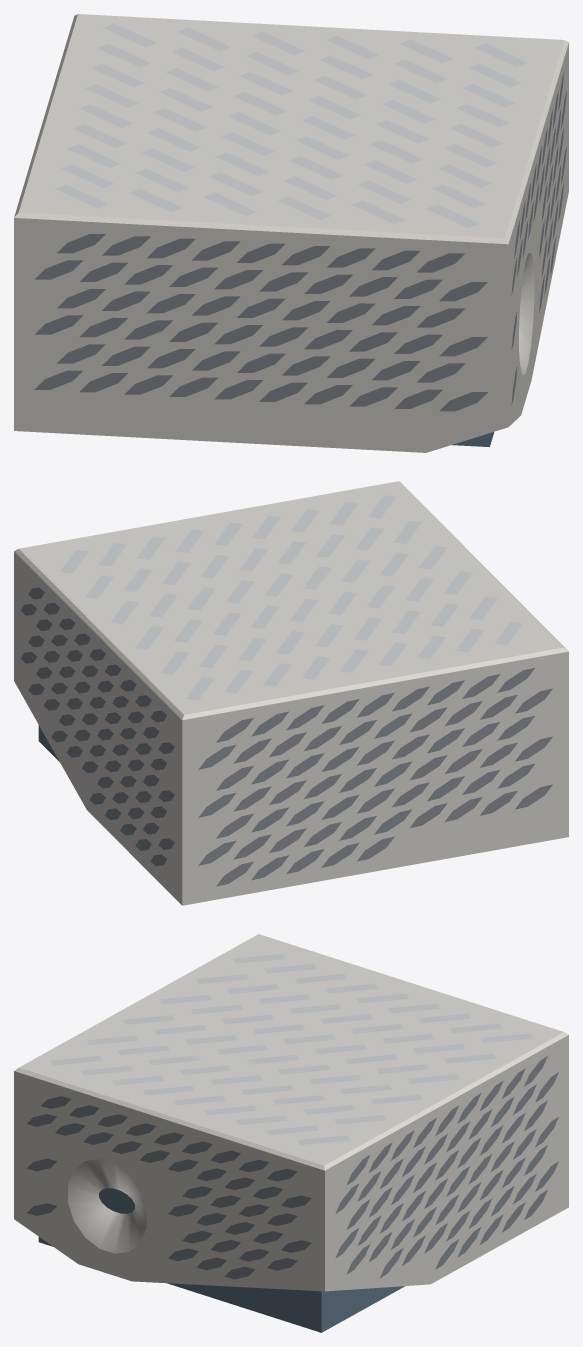
File: detail.glb
The picture shows the model from 3 angles, top to bottom: view 1: azimuth 30°, elevation 25°; view 2: azimuth 150°, elevation 25°; view 3: azimuth 270°, elevation 25°; orthographic projection. The views are drawn at different scales.
Visible parts, largest first — view 1: the-broad; view 2: the-broad; view 3: the-broad.
Part boxes in pixels (x1,y1,x2,y2): the-broad: (14, 14, 568, 452); the-broad: (14, 481, 568, 905); the-broad: (14, 934, 568, 1332).
Size of the model in its own units: 82.86 by 28.85 by 82.47.
